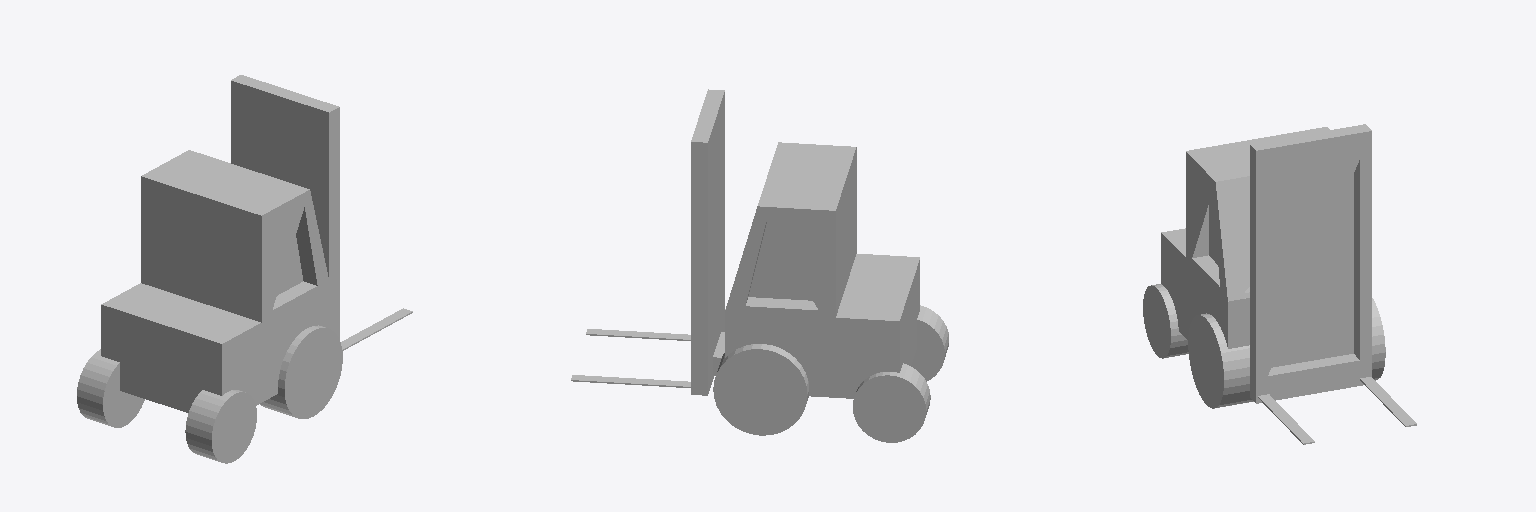
File: camion.obj
The picture shows the model from 3 angles: view 1: azimuth 30°, elevation 25°; view 2: azimuth 150°, elevation 25°; view 3: azimuth 270°, elevation 25°; orthographic projection.
Parts seen in each view (by area): view 1: Cube.000; view 2: Cube.000; view 3: Cube.000.
Boxes of the visible parts, x1=… form: Cube.000: x1=77, y1=75, x2=412, y2=463; Cube.000: x1=571, y1=89, x2=948, y2=442; Cube.000: x1=1143, y1=124, x2=1416, y2=444.
Bounding box in the file's own units: 1.43 × 1.14 × 1.01.